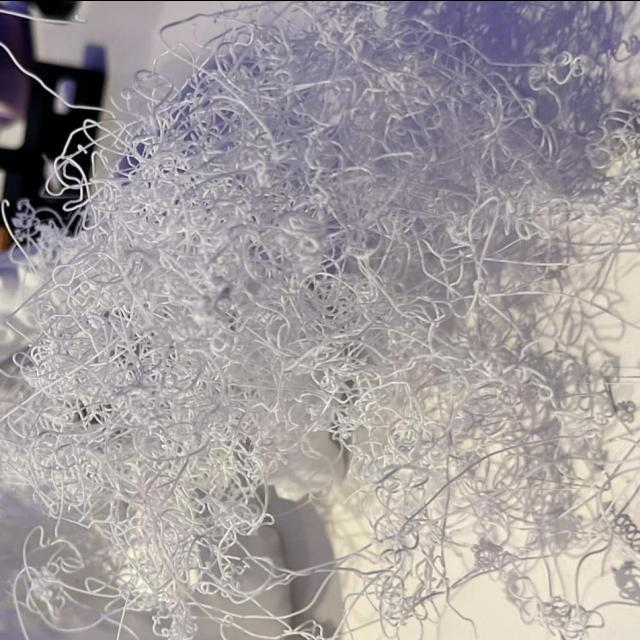Spaghetti: (197, 19, 440, 278), (383, 282, 620, 479), (427, 79, 631, 267), (110, 471, 270, 628), (180, 308, 353, 452), (477, 492, 591, 640), (45, 269, 166, 406), (72, 129, 189, 267), (369, 481, 472, 613), (19, 406, 127, 513), (20, 549, 106, 618)
